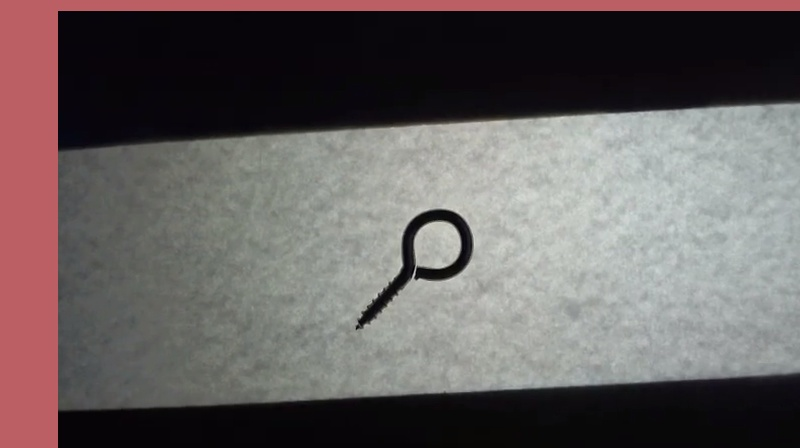O001: (347, 205, 477, 337)
